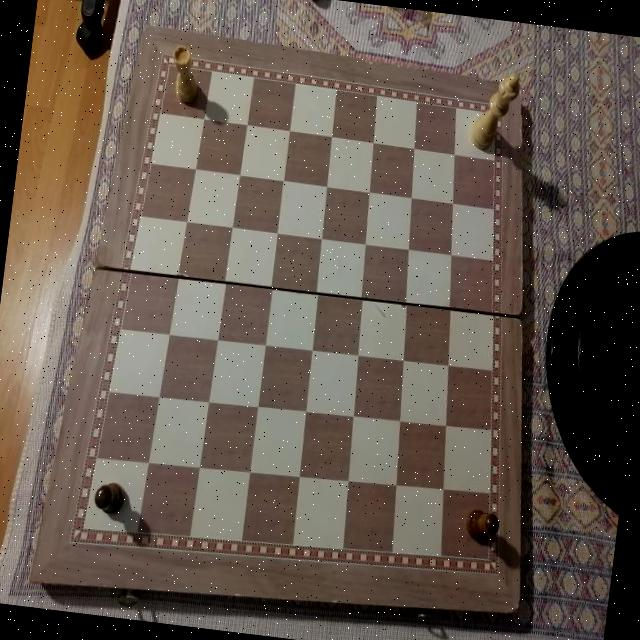corners: (20, 565, 46, 590), (501, 592, 522, 621), (135, 20, 160, 42), (518, 84, 524, 97)
